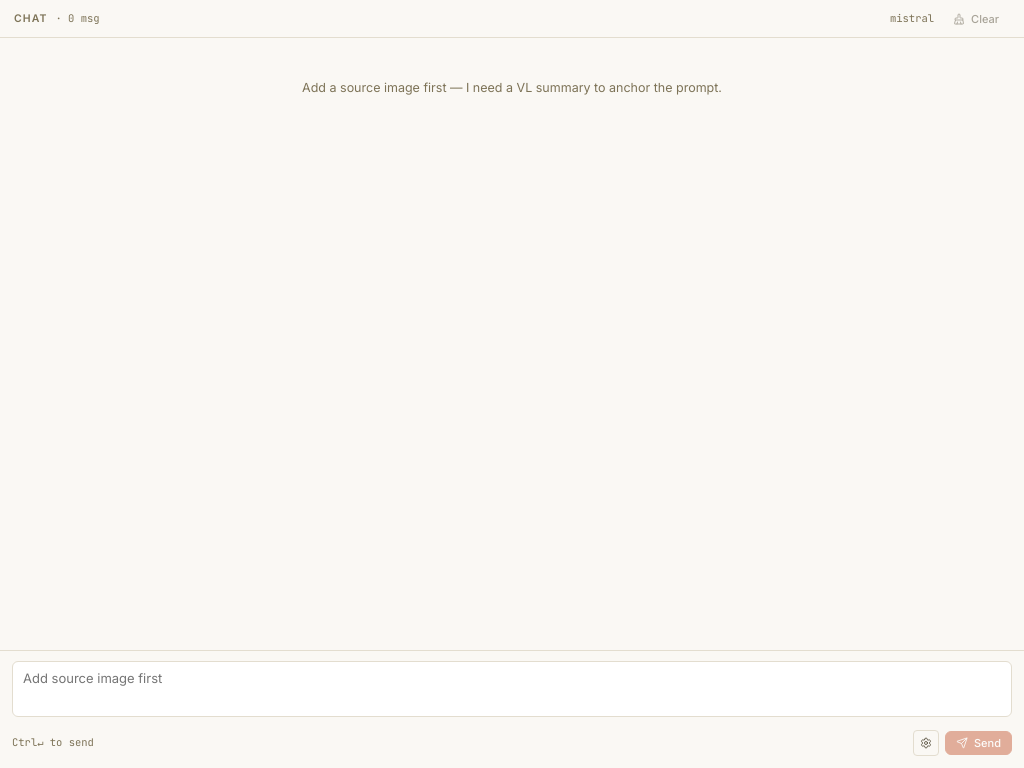
Scenario: ChatPane › disables send while in flight and shows error event
The width and height of the screenshot is (1024, 768).
Type "hi" into the text box at (512, 689), box left=12, top=661, right=1012, bottom=717
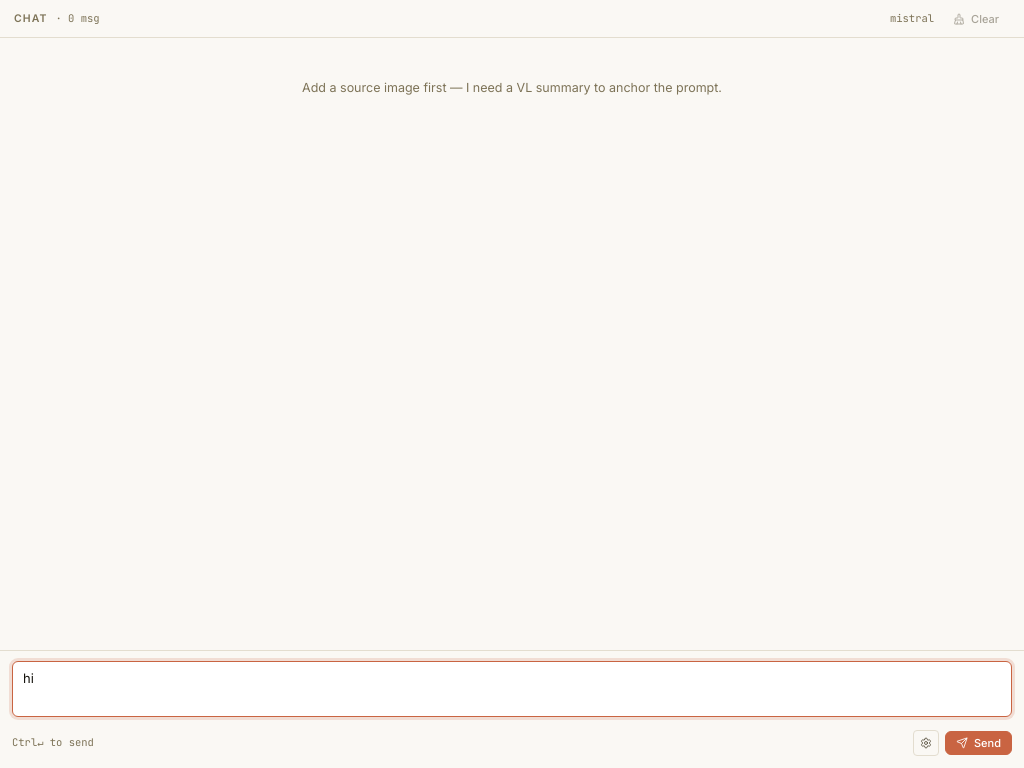
Click the button "Send" at (978, 743), box left=945, top=731, right=1012, bottom=755
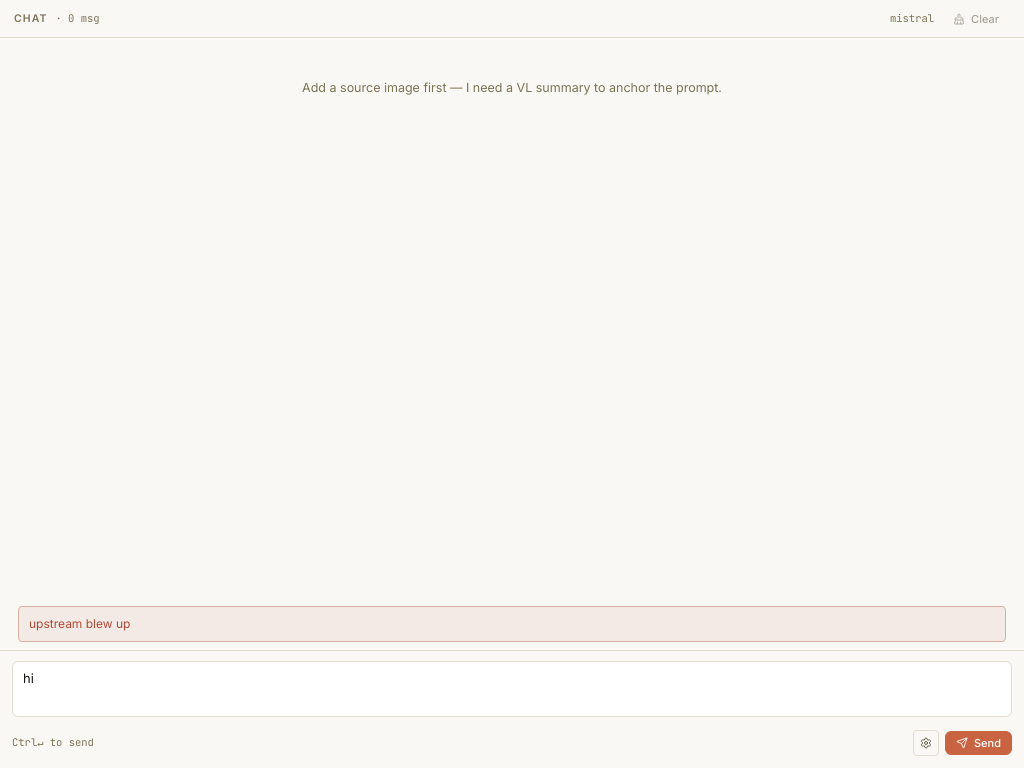
Now the message reads "upstream blew up", box left=29, top=616, right=130, bottom=631
